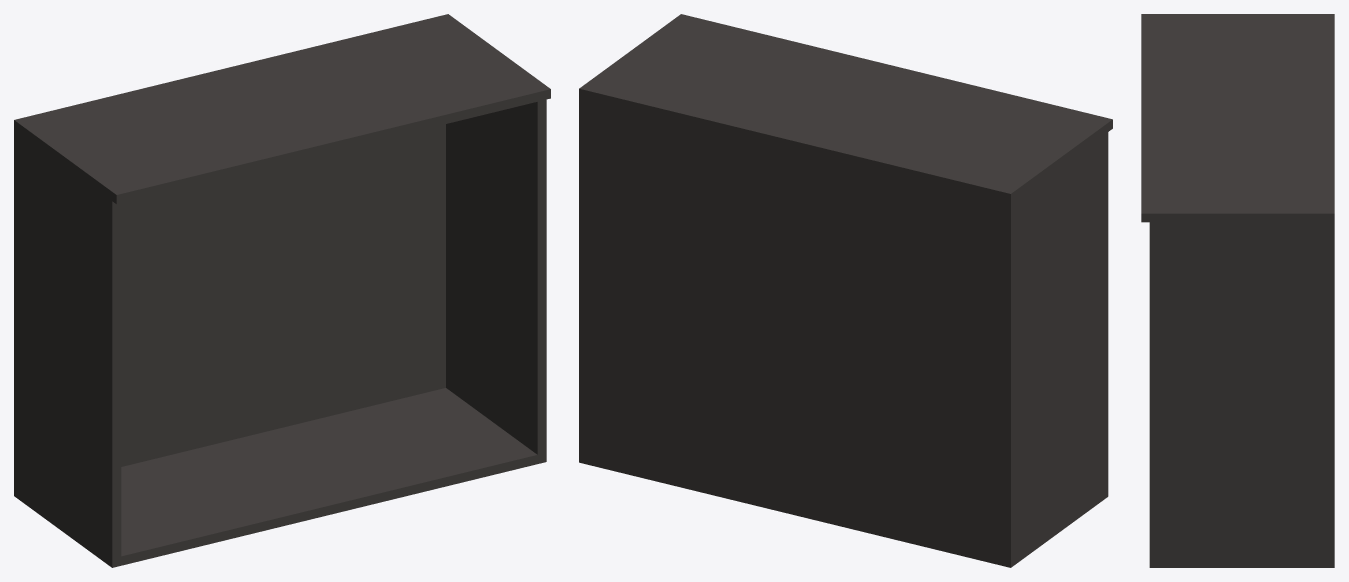
The model's file is Cupboard_11_01.fbx.
3 views of the same model, side by side, from view 1: azimuth 30°, elevation 25°; view 2: azimuth 150°, elevation 25°; view 3: azimuth 270°, elevation 25° (orthographic). The views are drawn at different scales.
Visible parts, largest first — view 1: Cupboard_11_01; view 2: Cupboard_11_01; view 3: Cupboard_11_01.
Boxes of the visible parts, x1,y1,x2,y2 form: Cupboard_11_01: [14, 14, 550, 567]; Cupboard_11_01: [579, 14, 1112, 567]; Cupboard_11_01: [1141, 14, 1334, 567].
Bounding box in the file's own units: 128 × 106 × 52.52.
